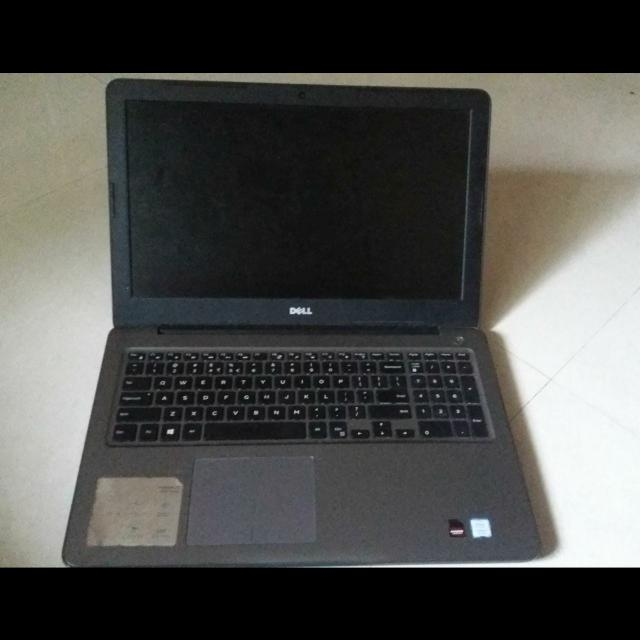Laptop: (58, 73, 544, 567)
